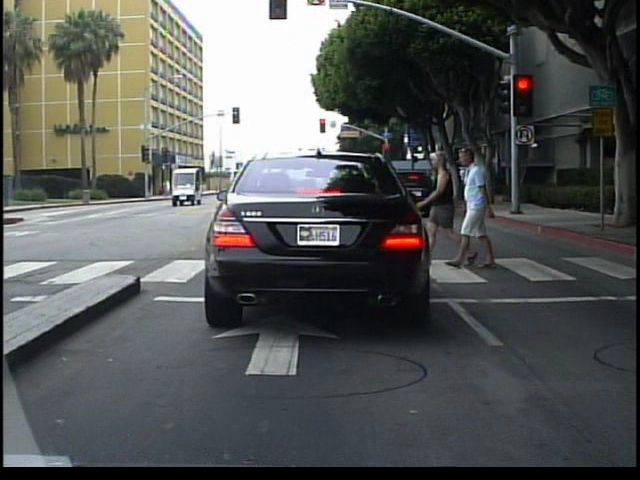person: (458, 138, 507, 269), (422, 143, 462, 234)
